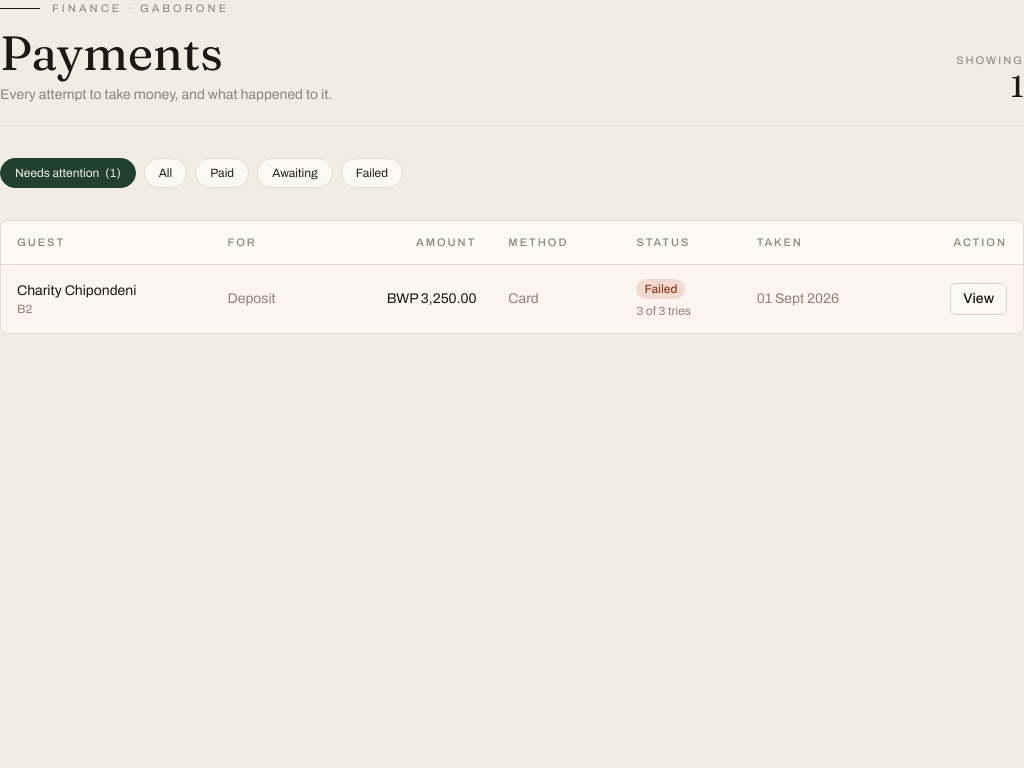
it: PaymentsPage › surfaces the recorded failure reason and the attempt log
The image size is (1024, 768).
What coordinates should you click on to do the following:
click the button "View"
I would click on:
 (979, 299)
Its box is left=950, top=283, right=1007, bottom=315.
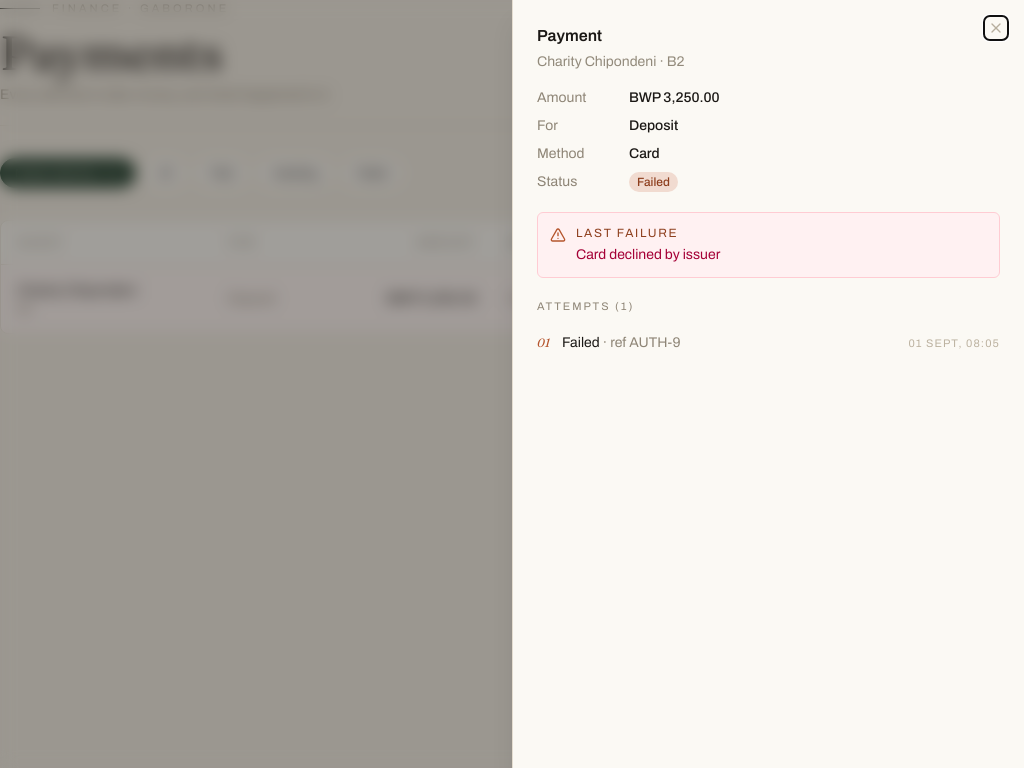
Result: the text "Card declined by issuer" is shown at left=576, top=245, right=720, bottom=265
Result: the text "Attempts (1)" is shown at left=537, top=300, right=634, bottom=312
Result: the text "· ref AUTH-9" is shown at left=600, top=334, right=681, bottom=350
